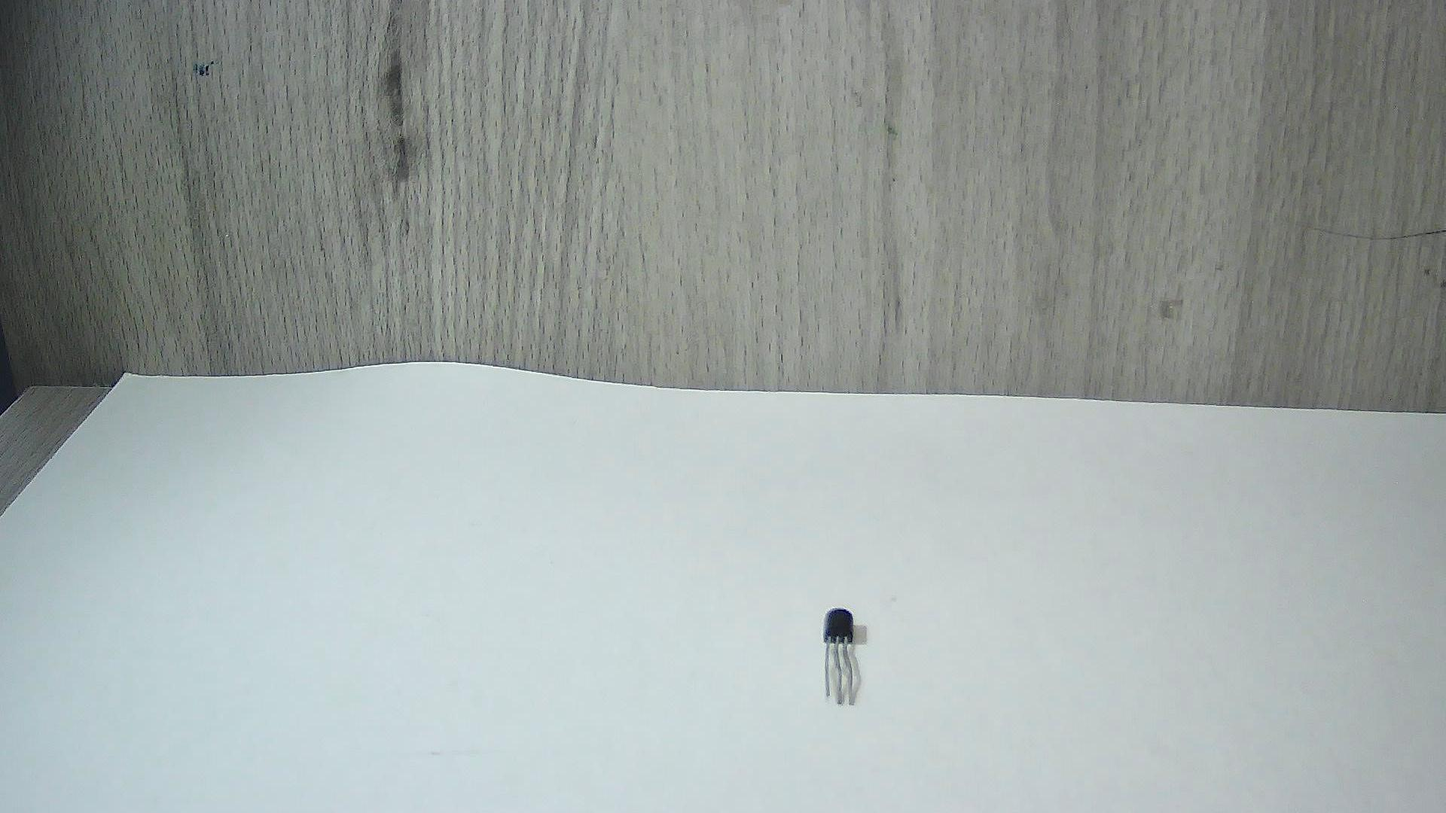Transistor: (803, 585, 906, 725)
